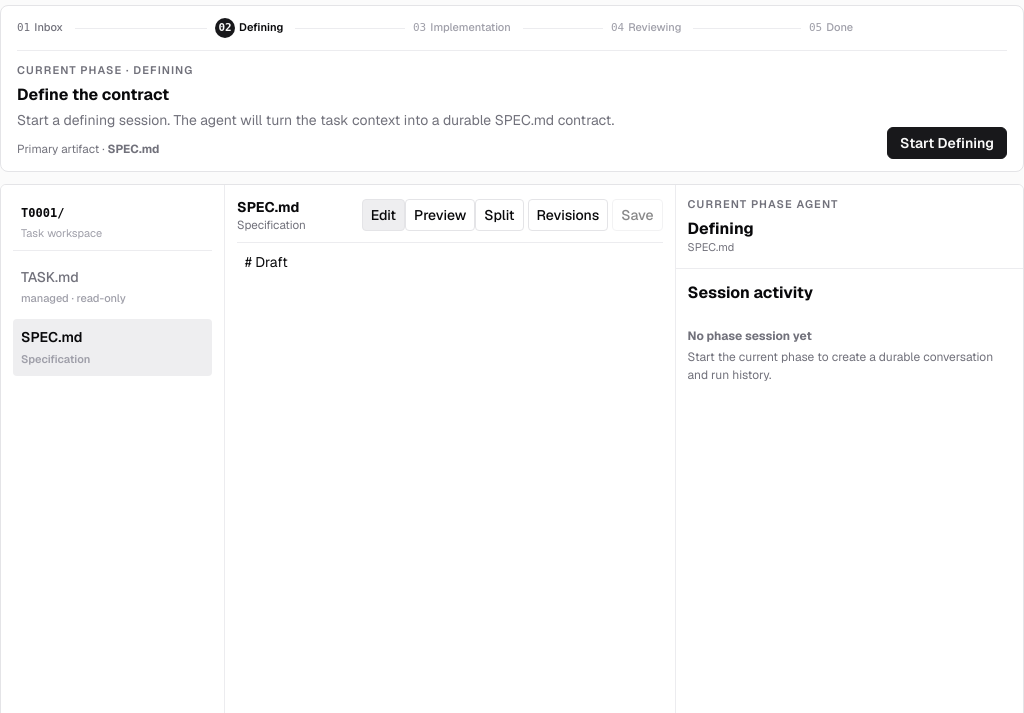
Test case: split mode edits Markdown with a live sanitized preview
The width and height of the screenshot is (1024, 713).
Click the button "Split" at (499, 215), box [475, 199, 524, 231]
(page scrolled)
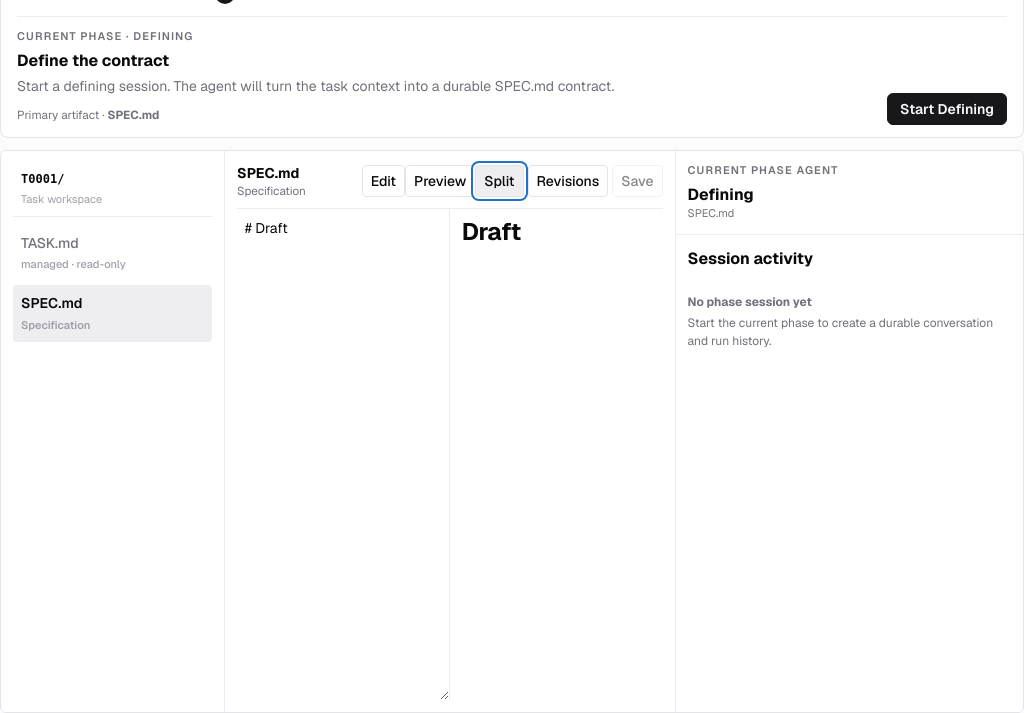
Replace the text in the text box named "Markdown document" with "# Live heading" at (343, 455), box [237, 209, 450, 700]
(page scrolled)
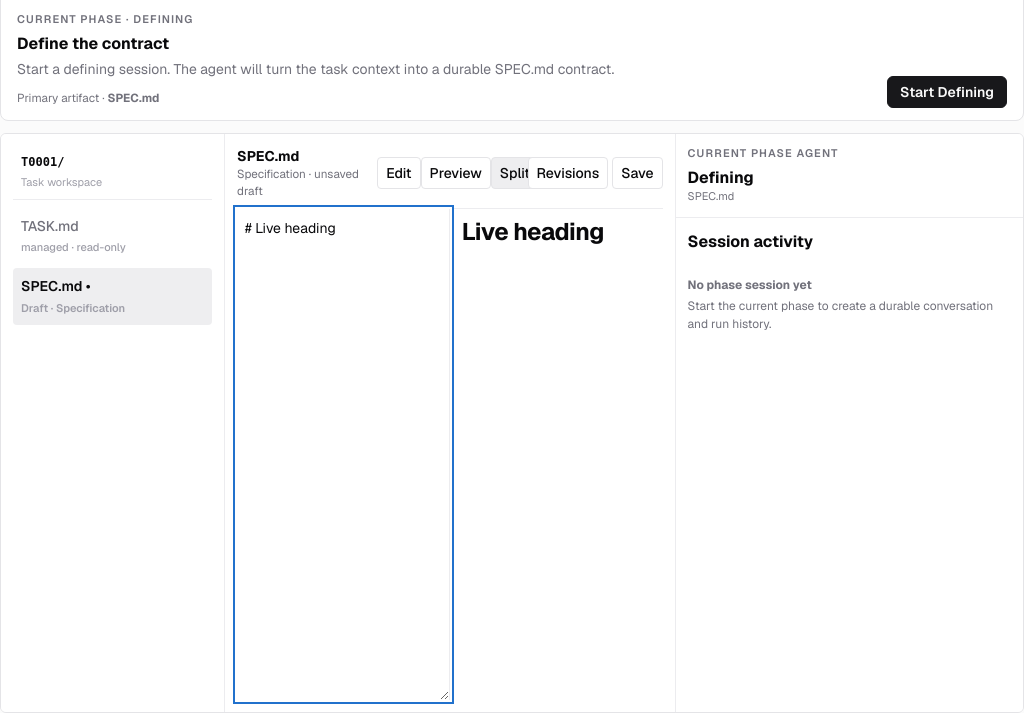
Expected: the heading "Live heading" is shown, [462, 216, 604, 247]
Click the button "Edit" at (399, 173), box [377, 157, 421, 189]
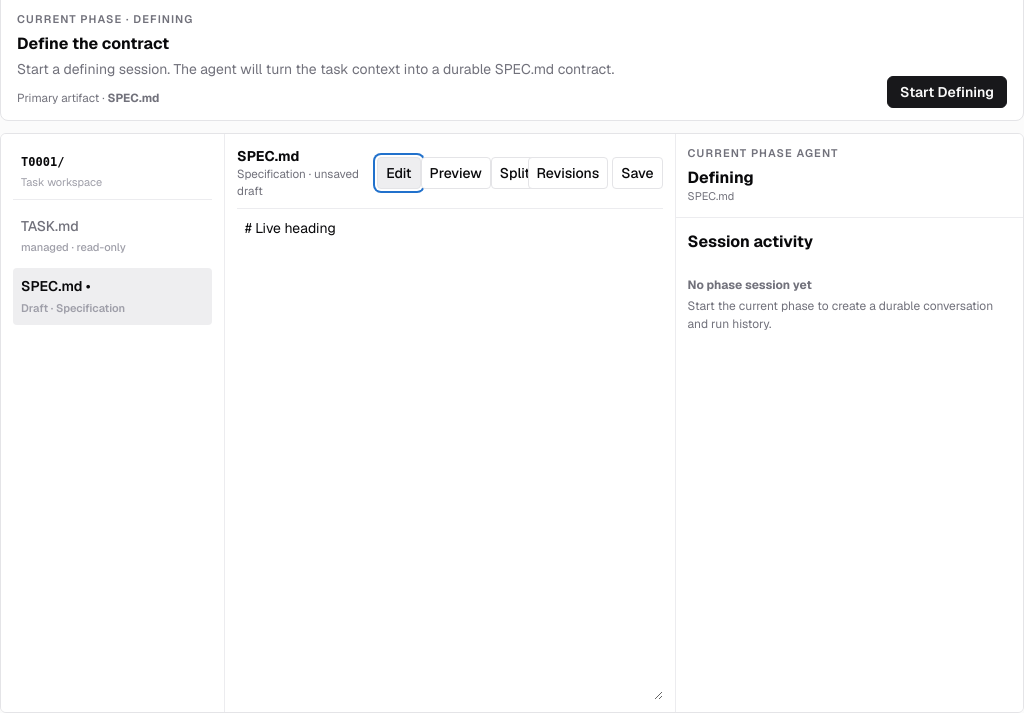
Click the button "Preview" at (456, 173), box [421, 157, 491, 189]
(page scrolled)
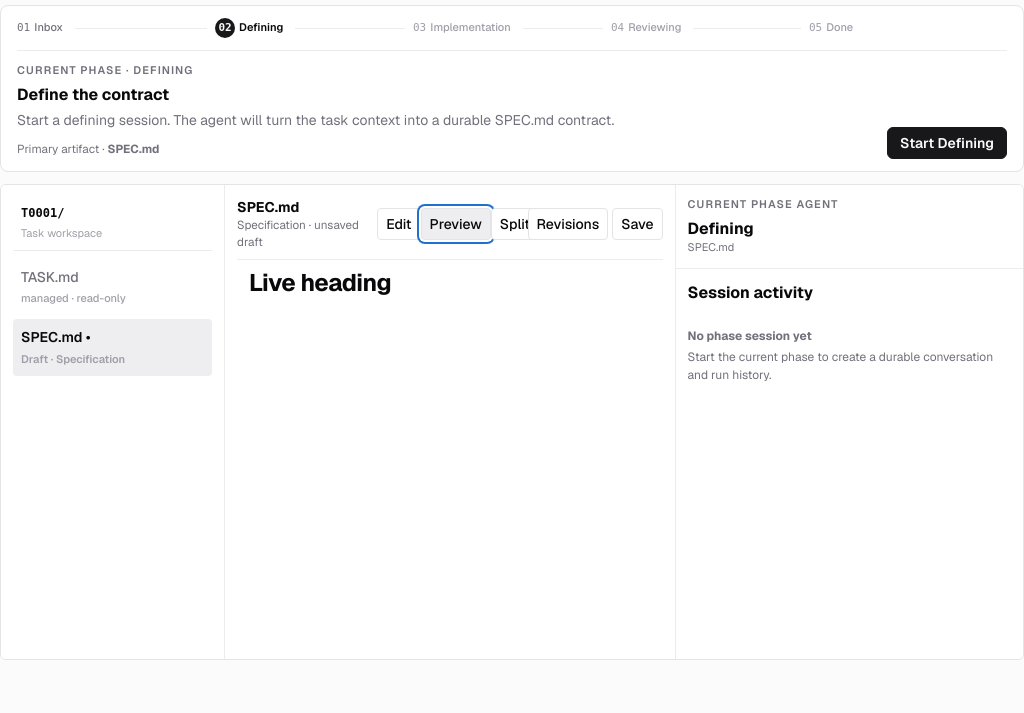
Expected: the heading "Live heading" is shown, [249, 267, 391, 298]
